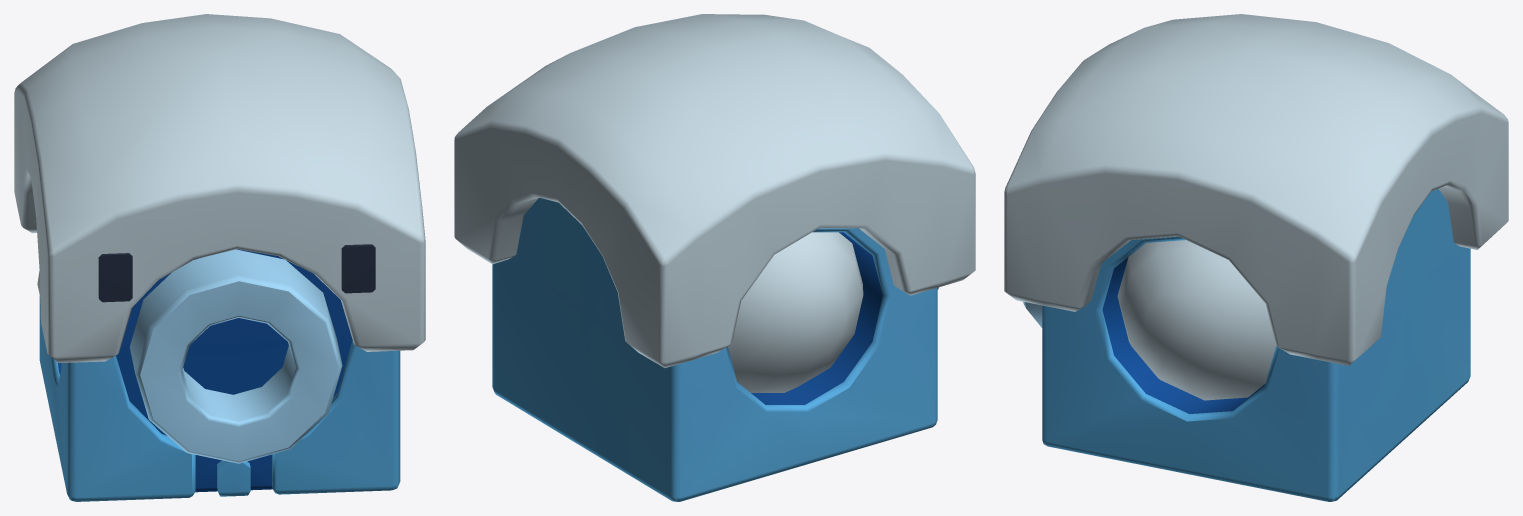
The picture shows the model from 3 angles, left to right: view 1: azimuth 30°, elevation 25°; view 2: azimuth 150°, elevation 25°; view 3: azimuth 270°, elevation 25°; orthographic projection. The views are drawn at different scales.
Parts seen in each view (by area): view 1: model_0.109; view 2: model_0.109; view 3: model_0.109.
Part boxes in pixels (<box>): model_0.109: <box>14,14,425,501</box>; model_0.109: <box>454,14,975,501</box>; model_0.109: <box>1004,14,1508,501</box>.
Bounding box in the file's own units: 4.41 × 3.58 × 4.48.
